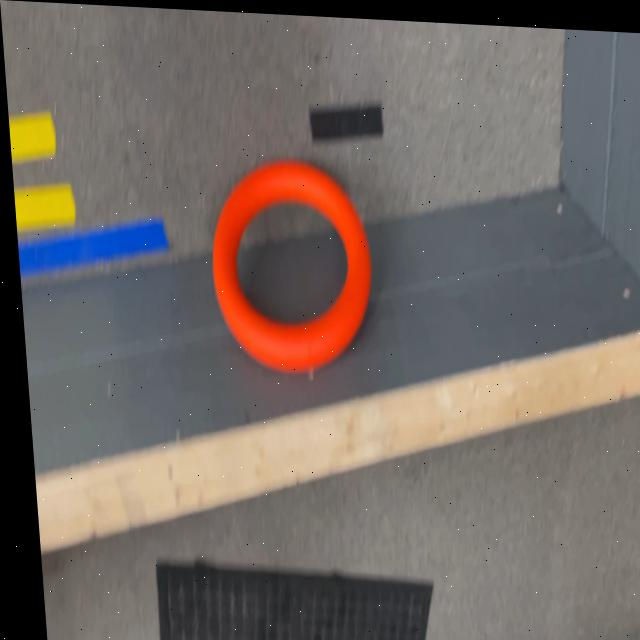note: (203, 155, 372, 371)
